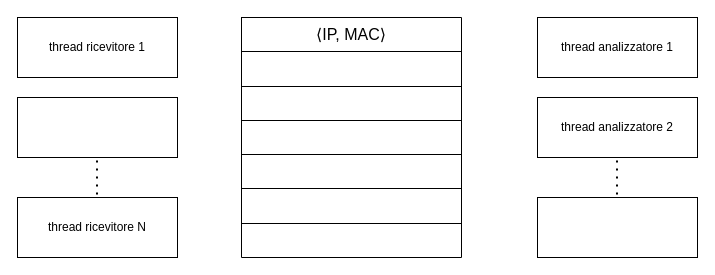
The diagram is 715 pixels wide and 275 high, and some of its shapes have lost their labels. Here are the shapes that lost their labels. From the top down, the centre of each, then its label:
point 97,127: thread ricevitore 2
point 617,227: thread analizzatore N
